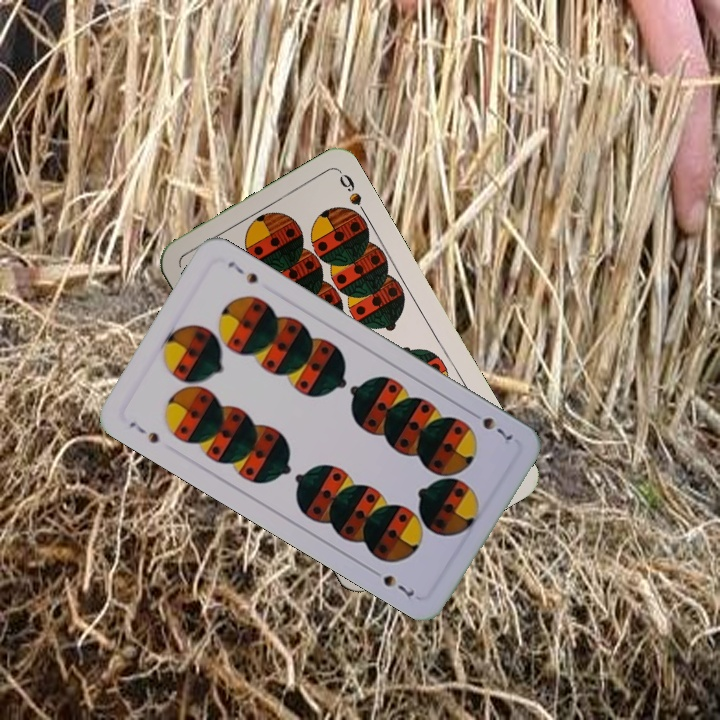S7: (465, 406, 515, 443), (125, 417, 162, 446)
